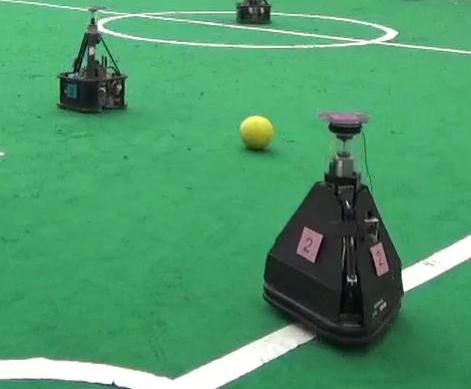robot: (260, 109, 411, 356), (54, 2, 131, 113)
